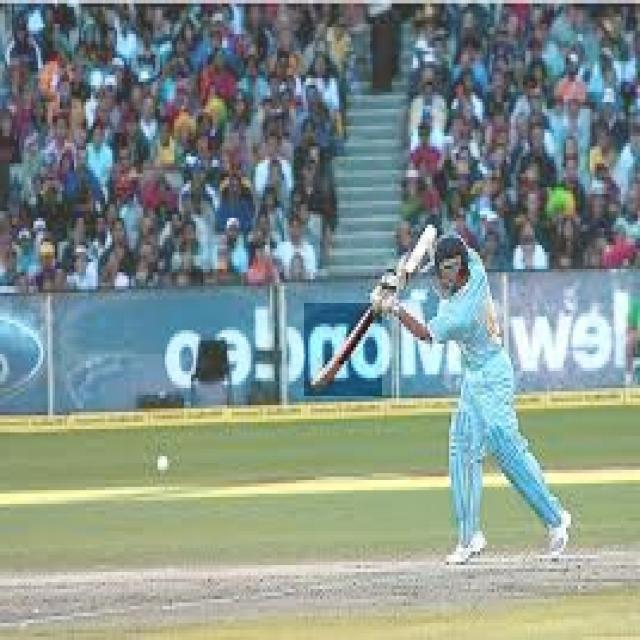bat: (306, 309, 380, 386)
